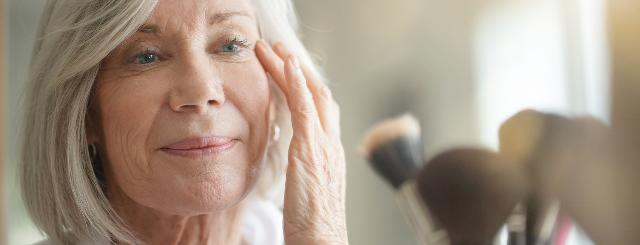chin: (198, 174, 218, 200)
crows_feet: (105, 62, 127, 78)
frown_line: (173, 22, 187, 44)
gummy_smile: (148, 104, 166, 134), (225, 93, 245, 113)
masseter: (115, 129, 142, 178)
sad_smile: (244, 122, 258, 152), (143, 148, 157, 172)
